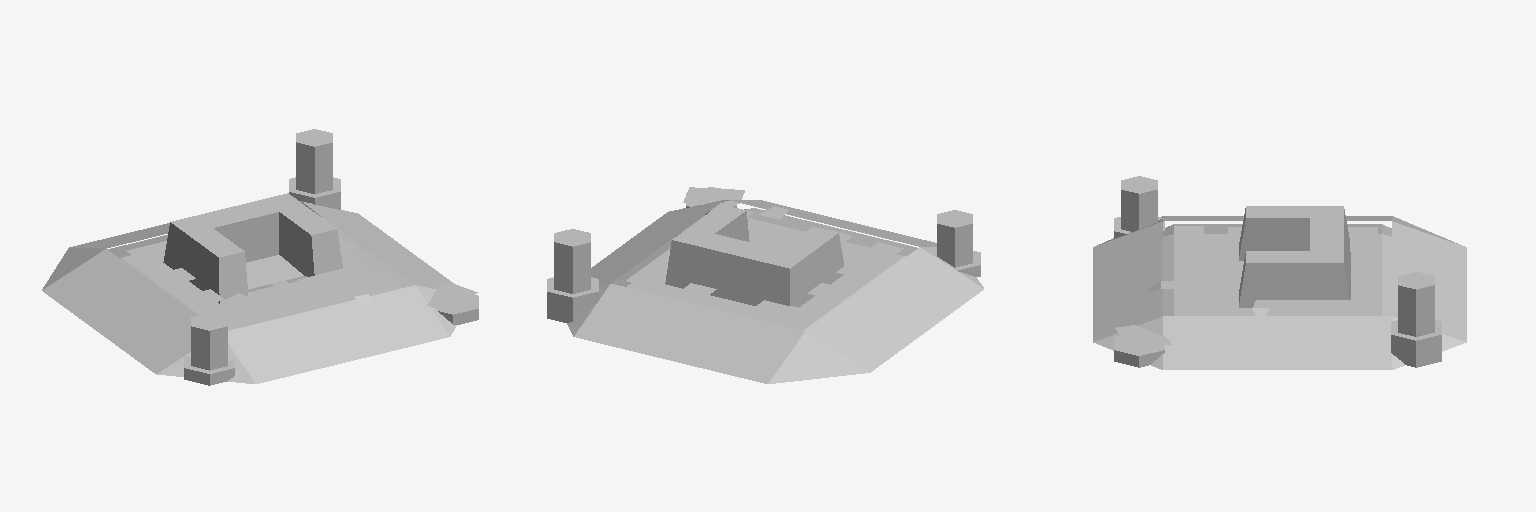
The model's file is Relic Castle 1.obj.
3 views of the same model, side by side, from view 1: azimuth 30°, elevation 25°; view 2: azimuth 150°, elevation 25°; view 3: azimuth 270°, elevation 25° (orthographic).
Visible parts, largest first — view 1: polygon3, polygon5, polygon7, polygon6, polygon2, polygon4, polygon0, polygon1; view 2: polygon3, polygon5, polygon7, polygon6, polygon2, polygon1, polygon4; view 3: polygon3, polygon5, polygon7, polygon6, polygon2, polygon4, polygon1.
Part boxes in pixels (left/top/right/bottom): polygon3: left=42, top=201, right=456, bottom=383; polygon5: left=163, top=193, right=342, bottom=303; polygon7: left=184, top=129, right=478, bottom=385; polygon6: left=107, top=216, right=414, bottom=330; polygon2: left=127, top=238, right=400, bottom=324; polygon4: left=150, top=244, right=477, bottom=310; polygon0: left=246, top=255, right=303, bottom=289; polygon1: left=159, top=239, right=349, bottom=310; polygon3: left=567, top=200, right=983, bottom=383; polygon5: left=665, top=204, right=843, bottom=307; polygon7: left=547, top=187, right=980, bottom=322; polygon6: left=611, top=208, right=917, bottom=330; polygon2: left=641, top=211, right=903, bottom=321; polygon1: left=626, top=248, right=864, bottom=299; polygon4: left=675, top=187, right=842, bottom=298; polygon3: left=1093, top=216, right=1466, bottom=369; polygon5: left=1239, top=206, right=1350, bottom=307; polygon7: left=1114, top=176, right=1441, bottom=367; polygon6: left=1163, top=224, right=1391, bottom=315; polygon2: left=1174, top=226, right=1377, bottom=311; polygon4: left=1115, top=258, right=1268, bottom=349; polygon1: left=1197, top=236, right=1380, bottom=311.
Bounding box in the file's own units: 85.83 × 19.29 × 87.83.